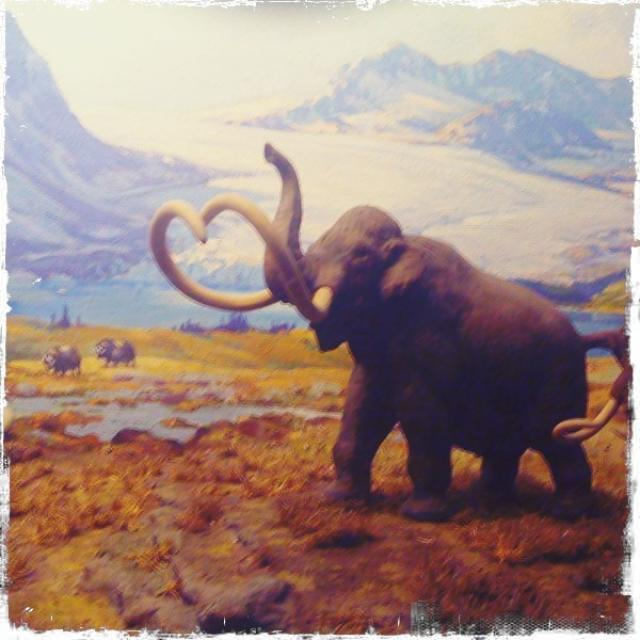Elephant: (148, 140, 630, 522)
